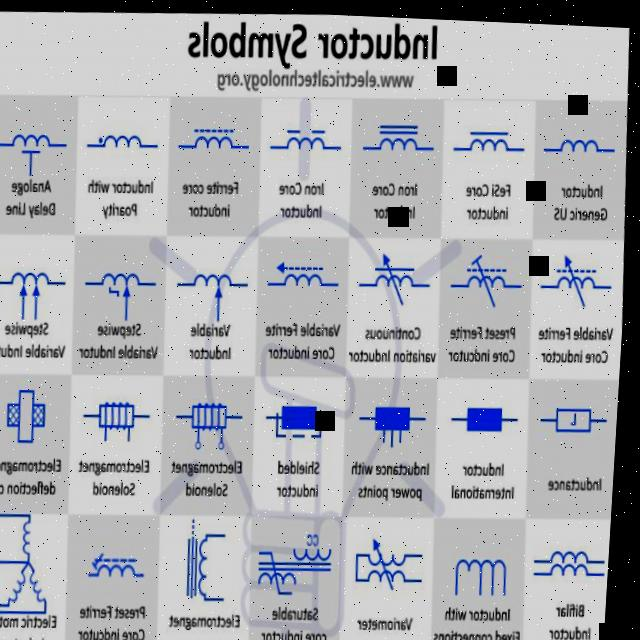inductor: (457, 538, 521, 608), (548, 243, 611, 306), (274, 387, 337, 447), (371, 383, 424, 451), (461, 246, 519, 307), (369, 246, 425, 304), (184, 526, 226, 603), (545, 532, 607, 584), (98, 254, 158, 307), (366, 531, 416, 594), (193, 390, 242, 453), (9, 258, 65, 313), (97, 393, 148, 451), (258, 542, 310, 598), (274, 249, 332, 298), (7, 117, 60, 170), (460, 114, 518, 162), (185, 114, 243, 162), (293, 522, 343, 575), (189, 261, 245, 308), (554, 390, 603, 441), (282, 115, 337, 160), (97, 538, 150, 584), (461, 392, 514, 438), (374, 110, 425, 157), (95, 122, 155, 159), (554, 119, 609, 159), (23, 514, 48, 564), (34, 561, 57, 602), (12, 571, 36, 606)
